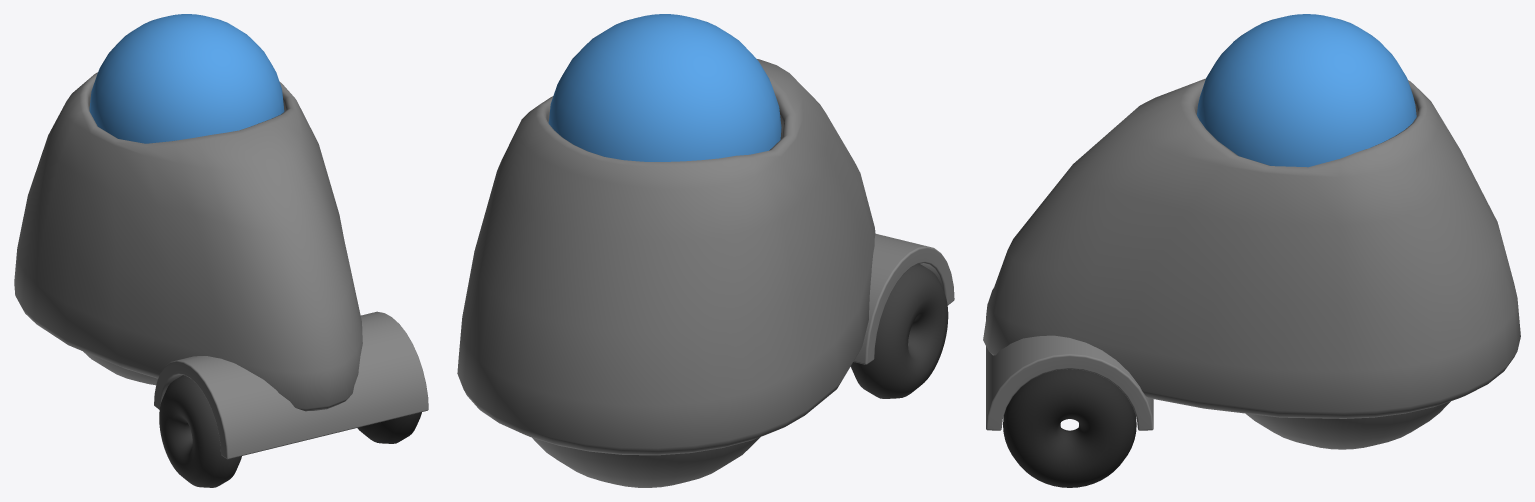
File: worker_bot.gltf
3 renders of one model, left to right at view 1: azimuth 30°, elevation 25°; view 2: azimuth 150°, elevation 25°; view 3: azimuth 270°, elevation 25°, orthographic. The views are drawn at different scales.
Parts seen in each view (by area): view 1: body, generator, wheel_chassis, wheel_left, wheel_right, ball; view 2: body, generator, wheel_left, ball, wheel_chassis; view 3: body, generator, wheel_right, wheel_chassis, ball.
Part boxes in pixels (box(x1,y1,x2,y2)): body: box(14, 72, 362, 411); generator: box(89, 14, 284, 143); wheel_chassis: box(154, 311, 428, 459); wheel_left: box(159, 375, 241, 487); wheel_right: box(357, 412, 421, 443); ball: box(83, 351, 157, 385); body: box(457, 59, 875, 455); generator: box(548, 14, 781, 161); wheel_left: box(850, 264, 948, 398); ball: box(532, 437, 760, 487); wheel_chassis: box(853, 233, 954, 364); body: box(983, 78, 1520, 418); generator: box(1197, 14, 1416, 167); wheel_right: box(1003, 369, 1136, 487); wheel_chassis: box(986, 288, 1153, 430); ball: box(1246, 401, 1450, 449).
Size of the model in its own units: 2 by 2.54 by 3.01.
